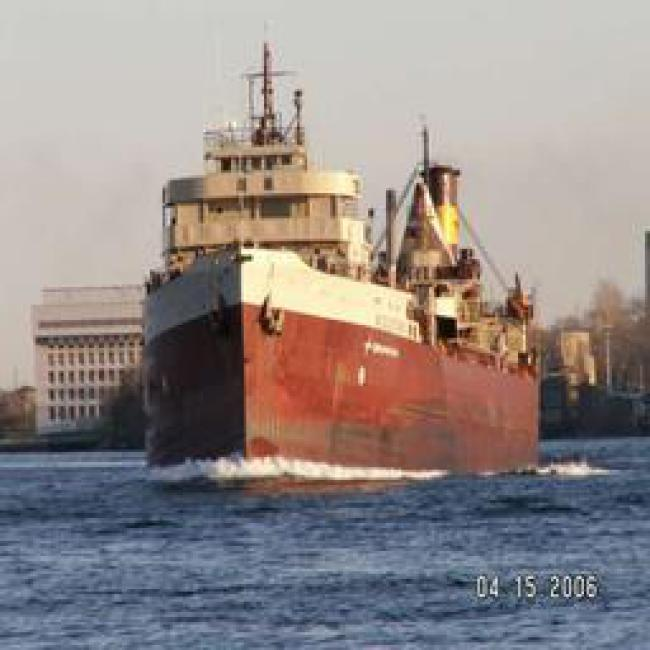Ship: (78, 74, 549, 499)
